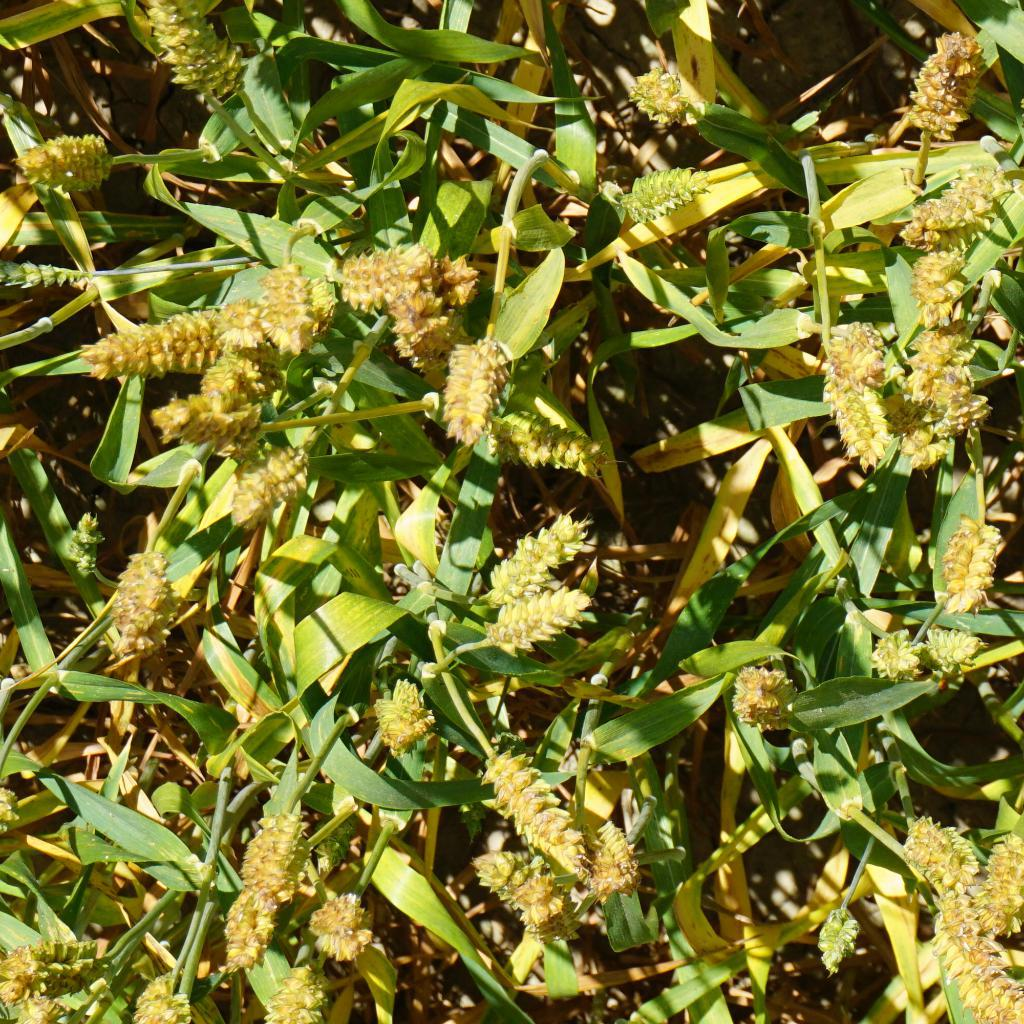0-0: (490, 739, 592, 860), (470, 828, 568, 935), (75, 301, 214, 374), (149, 0, 244, 98), (931, 513, 1018, 620), (910, 29, 996, 136), (0, 112, 115, 192), (477, 577, 590, 648), (615, 158, 733, 225), (499, 402, 604, 477), (126, 384, 256, 443), (941, 938, 1024, 1024), (236, 803, 310, 897), (228, 449, 320, 524), (438, 349, 504, 448), (725, 653, 803, 736), (384, 283, 457, 371), (196, 880, 275, 961), (820, 312, 896, 392), (967, 822, 1024, 928), (489, 508, 583, 572), (899, 803, 976, 880), (368, 672, 446, 748), (828, 368, 890, 459), (908, 160, 982, 236), (908, 239, 972, 324), (625, 60, 700, 132), (0, 920, 91, 979), (259, 260, 318, 348), (324, 243, 429, 290), (579, 813, 643, 888), (195, 355, 278, 412), (912, 622, 995, 679), (908, 325, 969, 395), (315, 887, 376, 954), (928, 876, 982, 951), (0, 246, 78, 297), (115, 554, 166, 631), (428, 251, 490, 314), (920, 372, 985, 431), (892, 420, 956, 477), (137, 968, 199, 1024), (810, 900, 864, 963), (272, 964, 329, 1022), (213, 290, 271, 347), (870, 623, 927, 679), (0, 981, 69, 1020), (71, 504, 106, 579), (0, 768, 27, 836)
